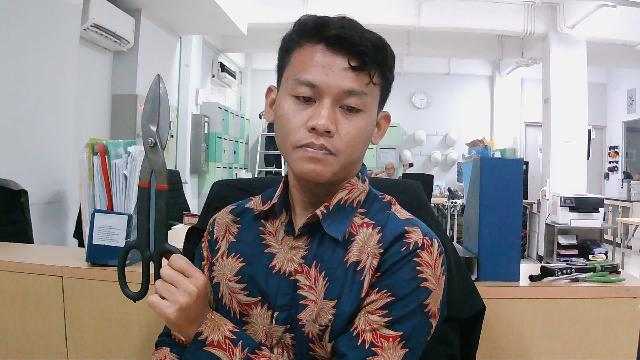gunting_plat: (103, 60, 217, 315)
